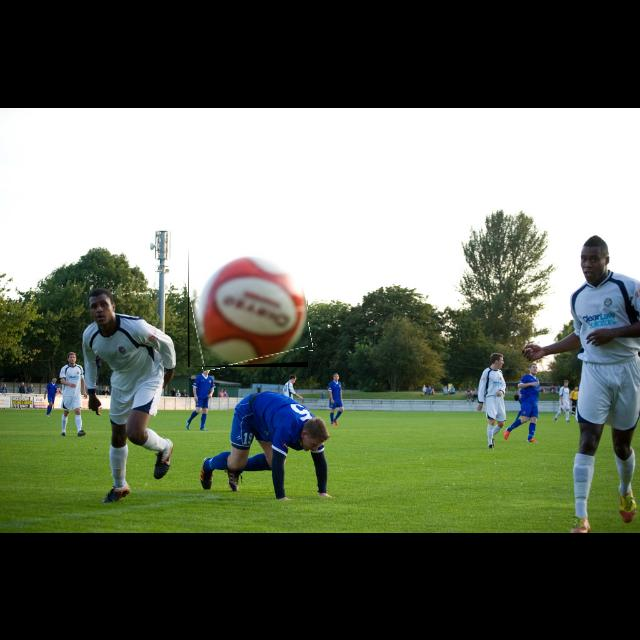Football: (188, 247, 308, 367)
